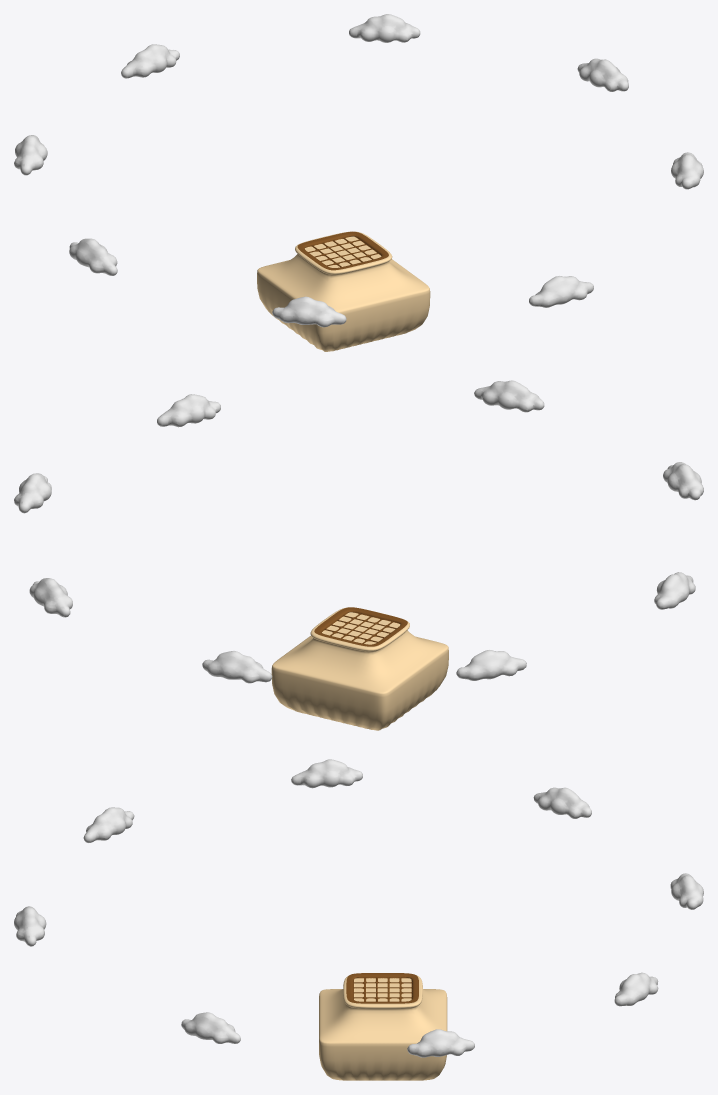
Rendered from stand.fbx.
3 views of the same model, one above another, from view 1: azimuth 30°, elevation 25°; view 2: azimuth 150°, elevation 25°; view 3: azimuth 270°, elevation 25° (orthographic). The views are drawn at different scales.
Parts seen in each view (by area): view 1: Plane.001; view 2: Plane.001; view 3: Plane.001.
Part boxes in pixels (x1,y1,x2,y2): Plane.001: [14, 14, 703, 351]; Plane.001: [14, 380, 703, 730]; Plane.001: [14, 759, 703, 1080].
Size of the model in its own units: 5216 by 1528 by 5371.
